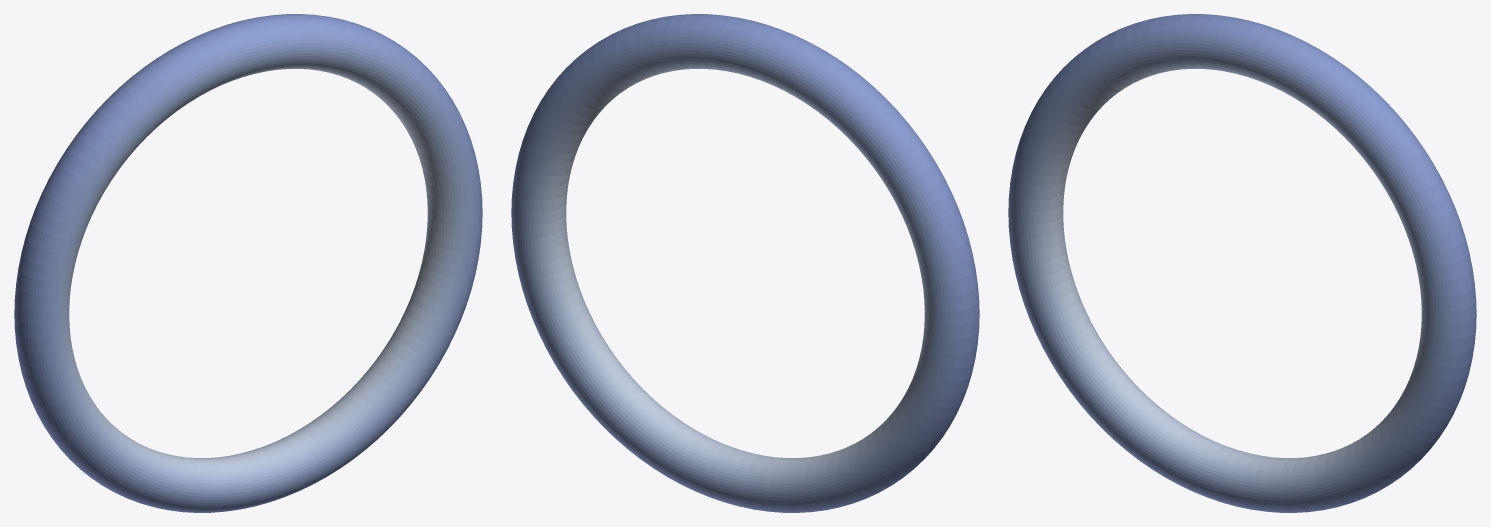
3 views of the same model, side by side, from view 1: azimuth 30°, elevation 25°; view 2: azimuth 150°, elevation 25°; view 3: azimuth 330°, elevation 25° (orthographic).
Visible parts, largest first — view 1: world; view 2: world; view 3: world.
Boxes of the visible parts, <box> form: world: <box>14,14,482,512</box>; world: <box>511,14,979,512</box>; world: <box>1008,14,1476,512</box>.
Size of the model in its own units: 29.73 by 29.73 by 3.06.
